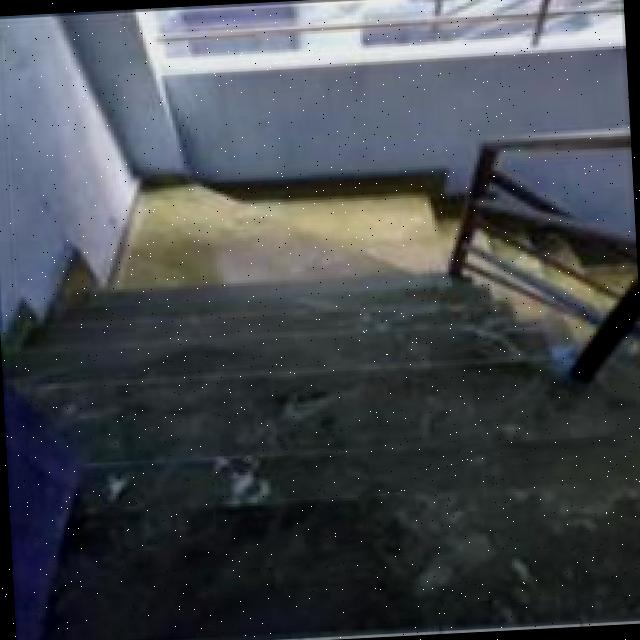stairs: (438, 116, 640, 394)
